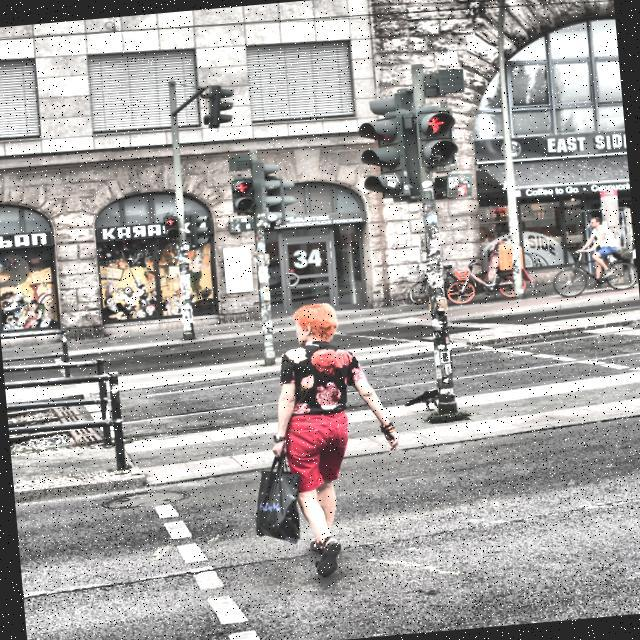red_light: (424, 112, 446, 134)
